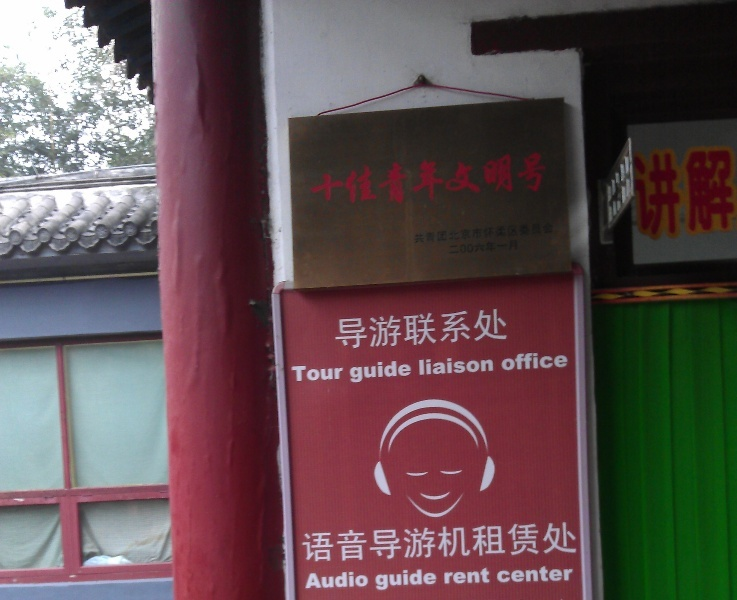text: (641, 150, 656, 237), (657, 150, 672, 237), (673, 150, 688, 237), (689, 150, 704, 237), (705, 150, 720, 237), (721, 150, 735, 237), (321, 151, 336, 209), (337, 151, 352, 209), (353, 151, 368, 209), (369, 151, 384, 209), (385, 151, 400, 209), (401, 151, 416, 209), (417, 151, 432, 209), (433, 151, 448, 209), (449, 151, 464, 209), (465, 151, 480, 209), (481, 151, 496, 209), (497, 151, 512, 209), (513, 151, 528, 209), (529, 151, 544, 209), (632, 150, 640, 237), (337, 308, 352, 353), (353, 308, 368, 353), (369, 308, 384, 353), (385, 308, 400, 353), (401, 308, 416, 353), (417, 308, 432, 353), (433, 308, 448, 353), (449, 308, 464, 353), (465, 308, 480, 353), (481, 308, 496, 353), (305, 521, 320, 565), (321, 521, 336, 565), (337, 521, 352, 565), (353, 521, 368, 565), (369, 521, 384, 565), (385, 521, 400, 565), (401, 521, 416, 565), (417, 521, 432, 565), (433, 521, 448, 565), (449, 521, 464, 565), (465, 521, 480, 565), (481, 521, 496, 565), (497, 521, 512, 565), (513, 521, 528, 565), (529, 521, 544, 565), (545, 521, 560, 565), (561, 521, 576, 565), (309, 151, 320, 209), (497, 308, 510, 353), (353, 360, 368, 385), (369, 360, 384, 385), (385, 360, 400, 385), (385, 568, 400, 592), (401, 568, 416, 592), (417, 568, 432, 592), (417, 222, 432, 244), (433, 222, 448, 244), (449, 222, 464, 244), (465, 222, 480, 244), (481, 222, 496, 244), (497, 222, 512, 244), (513, 222, 528, 244), (529, 222, 544, 244), (513, 350, 528, 372), (529, 350, 544, 372), (545, 350, 560, 372), (497, 565, 512, 586), (513, 565, 528, 586), (529, 565, 544, 586), (545, 565, 560, 586), (561, 565, 576, 586), (321, 571, 336, 591), (337, 571, 352, 591), (353, 571, 368, 591), (401, 360, 413, 385), (417, 356, 432, 376), (433, 356, 448, 376), (449, 356, 464, 376), (465, 356, 480, 376), (305, 364, 320, 383), (321, 364, 336, 383), (306, 571, 320, 591), (481, 356, 495, 376), (449, 567, 464, 585), (465, 567, 480, 585), (500, 350, 512, 372), (449, 239, 464, 256), (465, 239, 480, 256), (481, 239, 496, 256), (497, 239, 512, 256), (291, 364, 304, 383), (545, 151, 549, 209), (545, 222, 554, 244), (561, 350, 570, 372), (481, 567, 492, 585), (376, 568, 384, 592), (337, 364, 346, 383), (433, 568, 440, 592), (513, 239, 521, 256), (577, 521, 580, 565), (442, 567, 448, 585), (302, 521, 304, 565), (349, 360, 352, 385), (413, 222, 416, 244), (335, 308, 336, 353), (495, 565, 496, 586), (369, 571, 370, 591), (447, 239, 448, 256)
